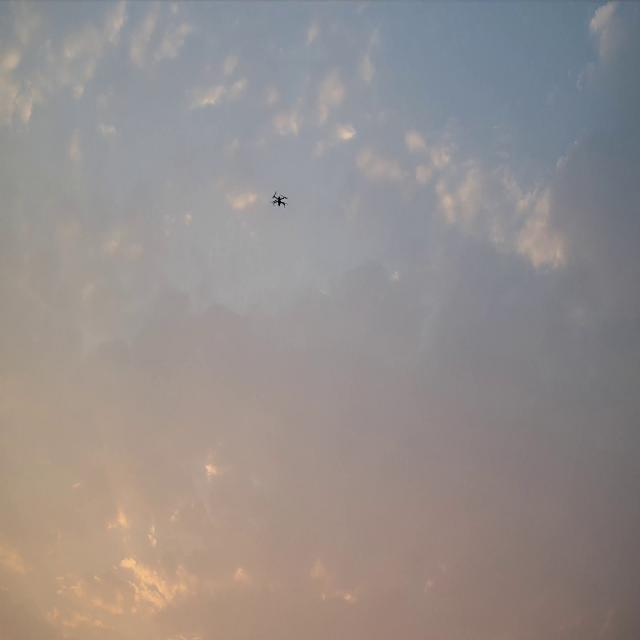UAV: (270, 190, 289, 208)
